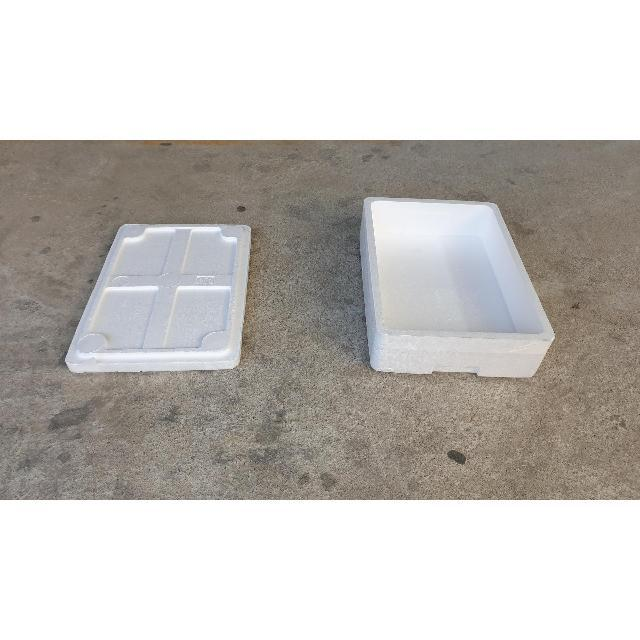Recipiente plastico: (361, 199, 554, 377), (65, 225, 250, 372)
